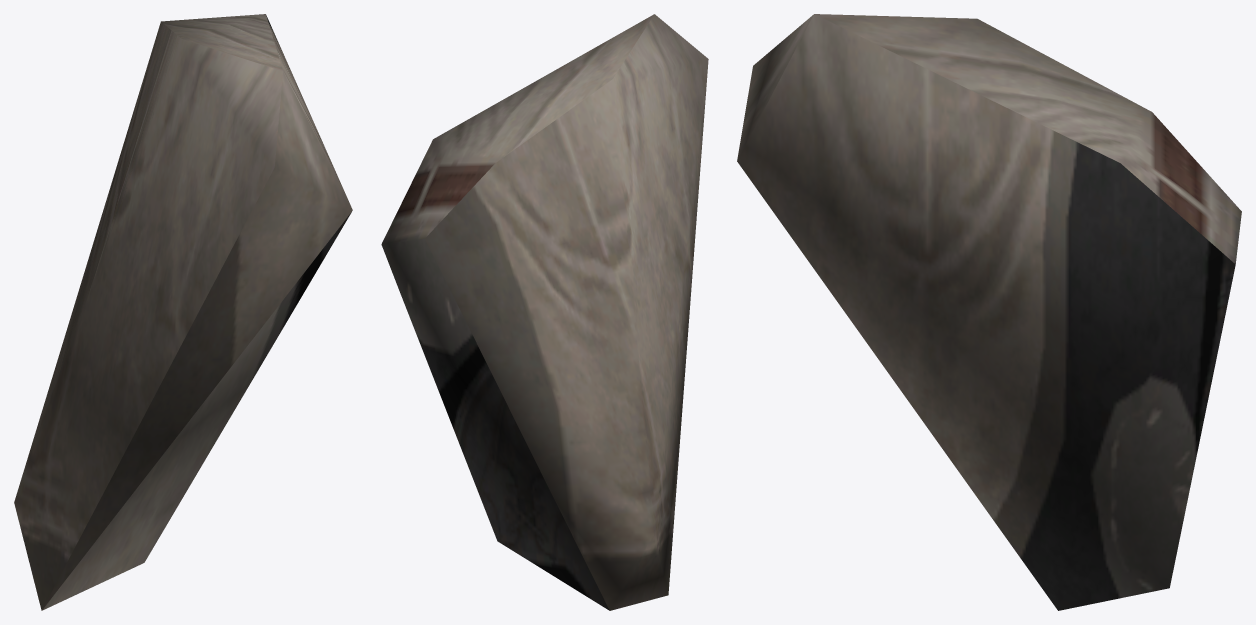
File: dest_nt_nuked_male_03_arm_left_LOD3.obj
3 renders of one model, left to right at view 1: azimuth 30°, elevation 25°; view 2: azimuth 150°, elevation 25°; view 3: azimuth 270°, elevation 25°, orthographic. The views are drawn at different scales.
Parts seen in each view (by area): view 1: mtl_nt_2020_manne_male01_pants1; view 2: mtl_nt_2020_manne_male01_pants1; view 3: mtl_nt_2020_manne_male01_pants1.
Part boxes in pixels (box(x1,y1,x2,y2)): mtl_nt_2020_manne_male01_pants1: box(14, 14, 352, 610); mtl_nt_2020_manne_male01_pants1: box(381, 14, 708, 610); mtl_nt_2020_manne_male01_pants1: box(737, 14, 1241, 610).
Bounding box in the file's own units: 25.27 × 49.74 × 35.94.
